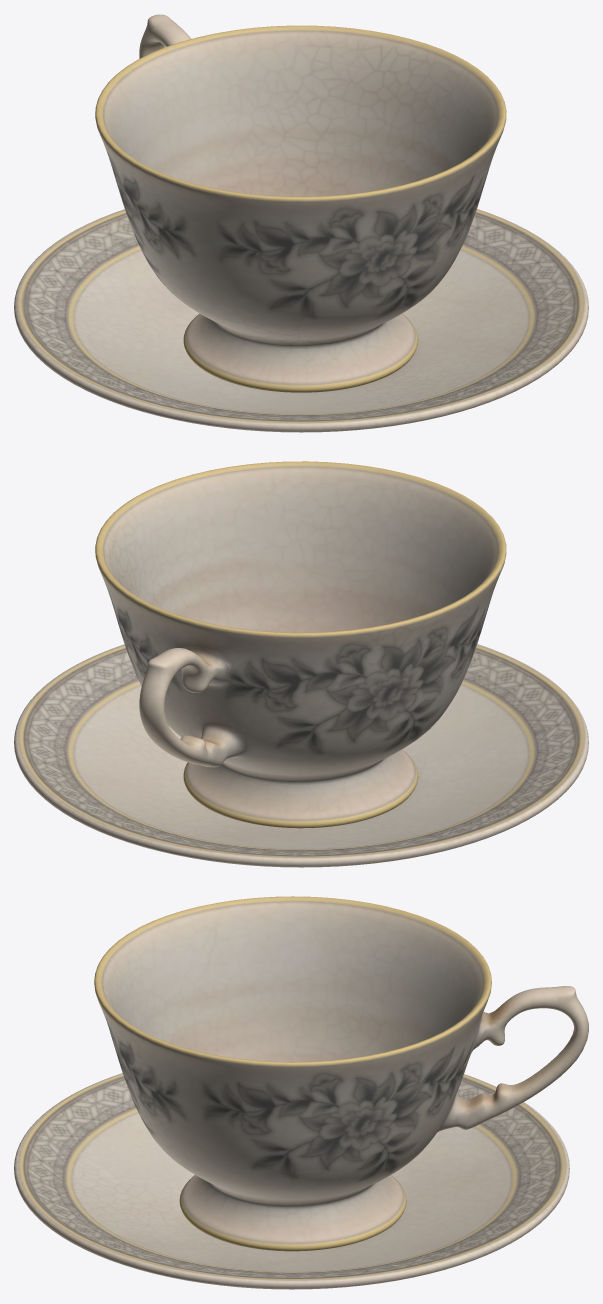
The model's file is teacup.glb.
3 views of the same model, one above another, from view 1: azimuth 30°, elevation 25°; view 2: azimuth 150°, elevation 25°; view 3: azimuth 270°, elevation 25° (orthographic). The views are drawn at different scales.
Parts seen in each view (by area): view 1: tea_cup, tea_saucer; view 2: tea_cup, tea_saucer; view 3: tea_cup, tea_saucer.
Boxes of the visible parts, bbox=[...] form: tea_cup: bbox=[95, 14, 506, 392]; tea_saucer: bbox=[14, 209, 588, 432]; tea_cup: bbox=[95, 461, 506, 828]; tea_saucer: bbox=[14, 644, 588, 867]; tea_cup: bbox=[94, 896, 588, 1251]; tea_saucer: bbox=[14, 1073, 569, 1289].
Size of the model in its own units: 0.1486 by 0.0704 by 0.1537.
Materials: 2 (2 with a texture image).
